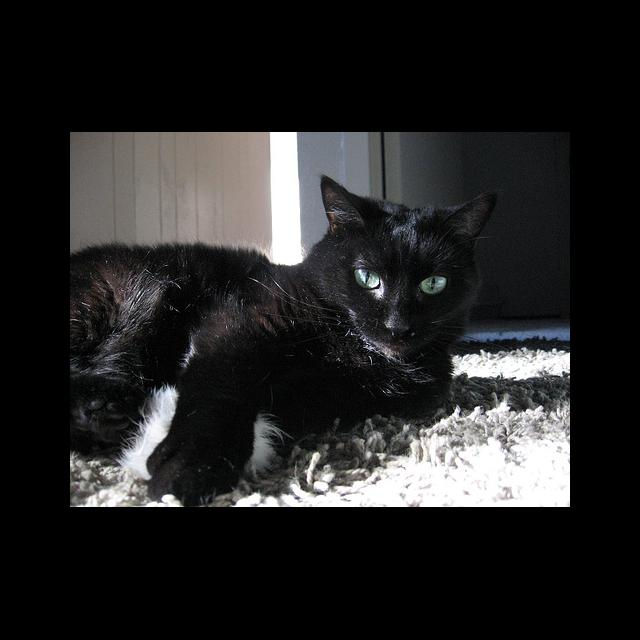animals: (322, 174, 498, 336)
